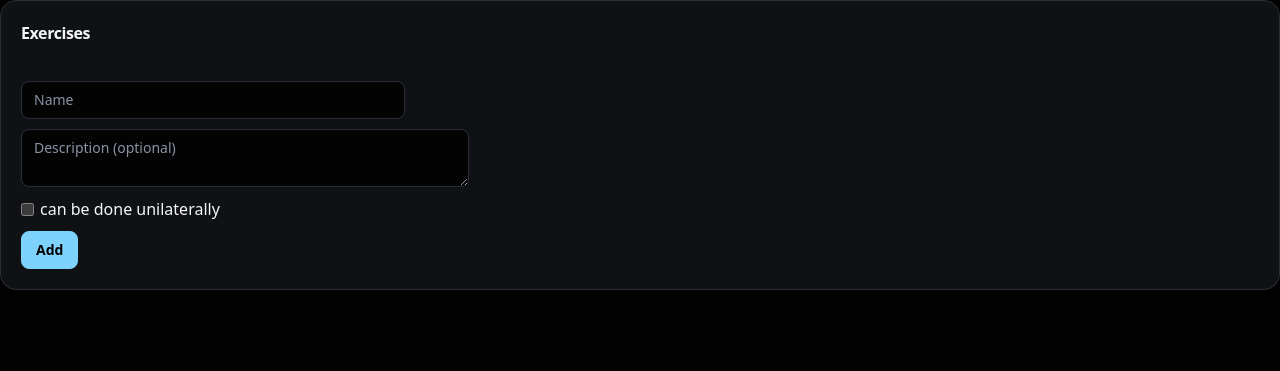
it: Exercises › adds a new exercise and reloads the list
Expected: the button "Add" is shown, [21,231,78,269]
In the field with placeholder "Name": [213, 100] box [21,81,405,119], type "Pull-up"
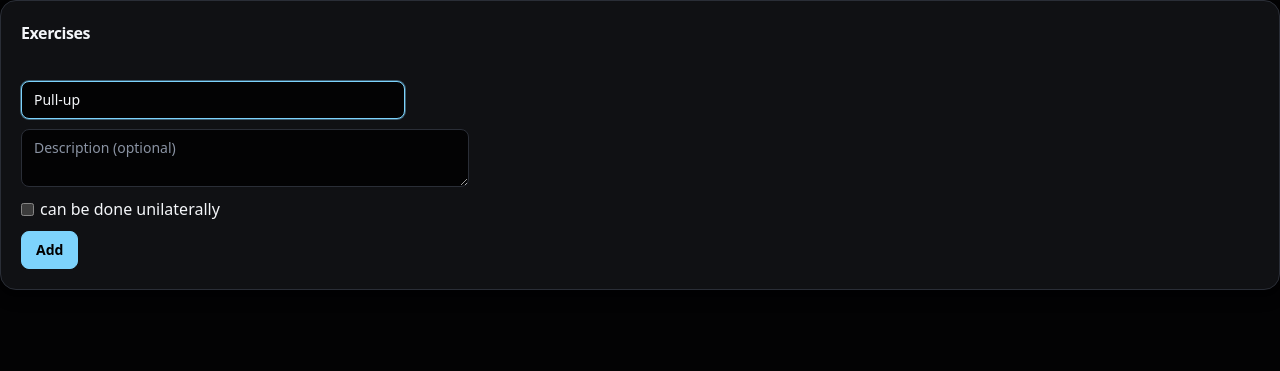
Click the button "Add": [50, 250] box [21,231,78,269]
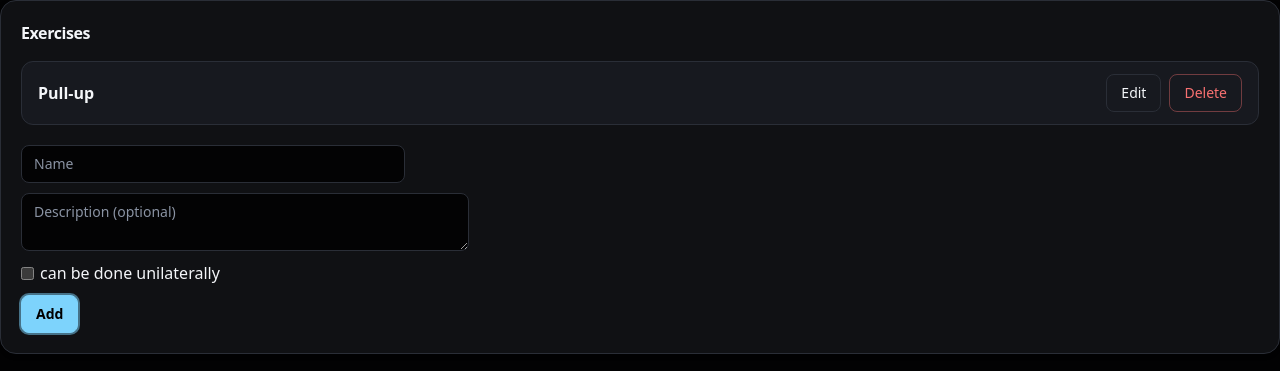
Result: the text "Pull-up" is shown at [38,81,94,105]
